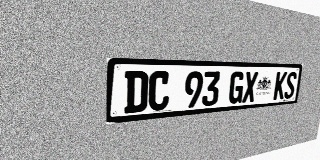3: (201, 71, 221, 106)
9: (183, 71, 204, 108)
C: (148, 71, 171, 111)
D: (124, 71, 149, 114)
G: (228, 71, 245, 104)
K: (273, 72, 287, 100)
S: (283, 72, 297, 99)
X: (242, 72, 258, 103)
